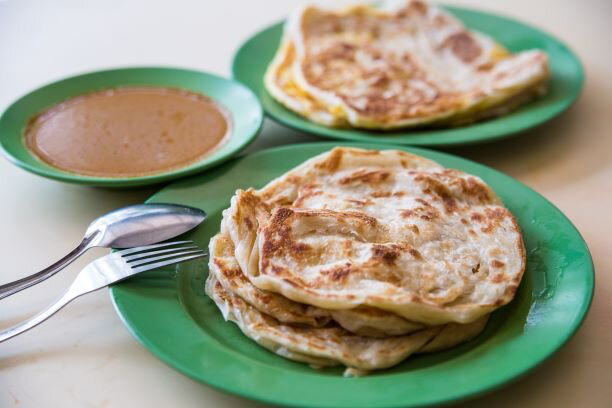Prata: (238, 168, 532, 325), (197, 228, 480, 373), (249, 8, 566, 126)
